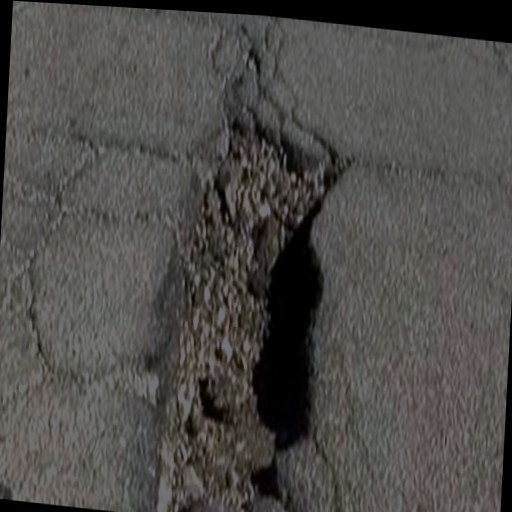pothole: (149, 86, 359, 512)
